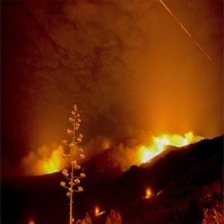fire: (3, 116, 211, 224)
